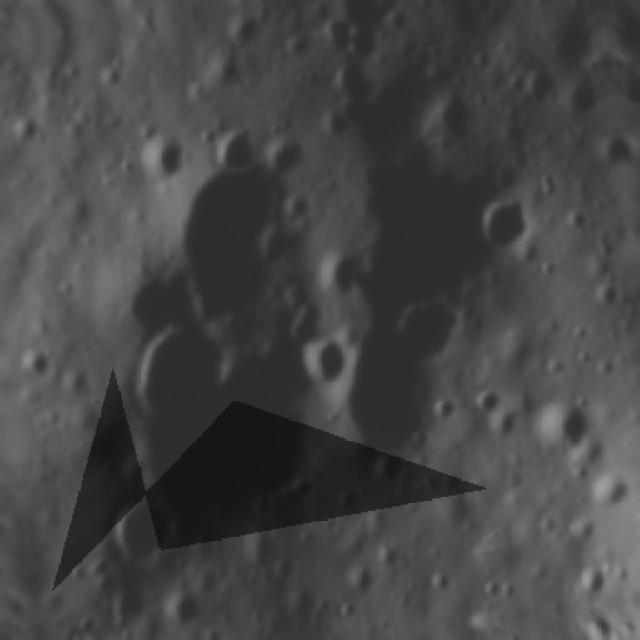crater: (122, 304, 346, 524), (168, 141, 328, 336), (337, 300, 478, 471), (122, 311, 227, 427), (104, 492, 185, 576), (472, 187, 542, 261), (533, 389, 599, 466), (325, 55, 381, 111), (206, 123, 263, 174), (304, 340, 354, 398), (137, 142, 189, 190), (103, 590, 154, 630), (162, 592, 208, 630), (18, 340, 56, 385), (576, 565, 619, 603), (457, 607, 517, 624), (59, 631, 130, 640), (516, 606, 569, 617), (632, 346, 640, 394), (575, 0, 600, 9)
